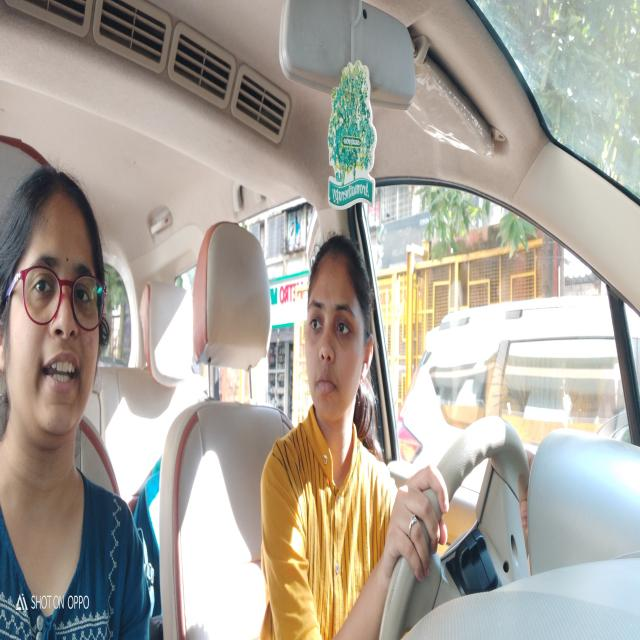LeftRight: (302, 236, 378, 427)
person: (0, 159, 117, 460)
